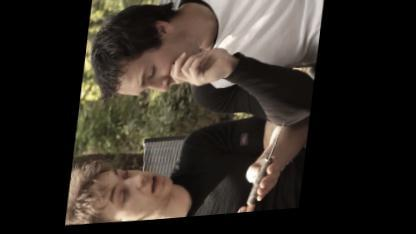knife: (247, 121, 294, 212)
